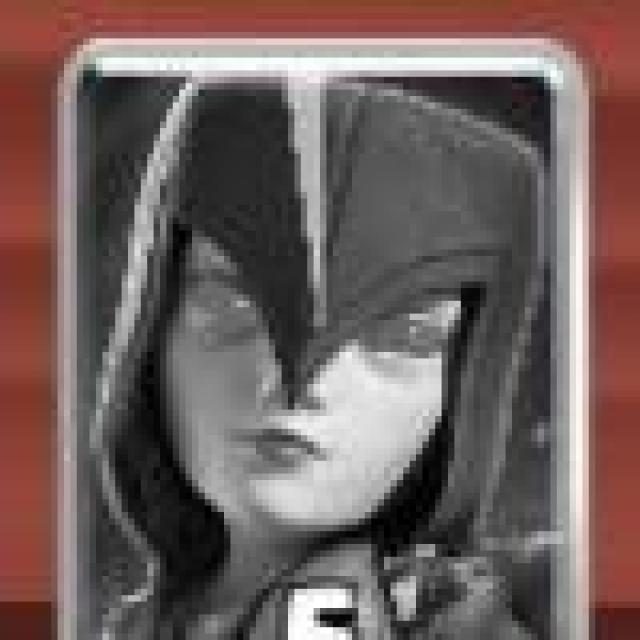Witch: (62, 43, 583, 640)
